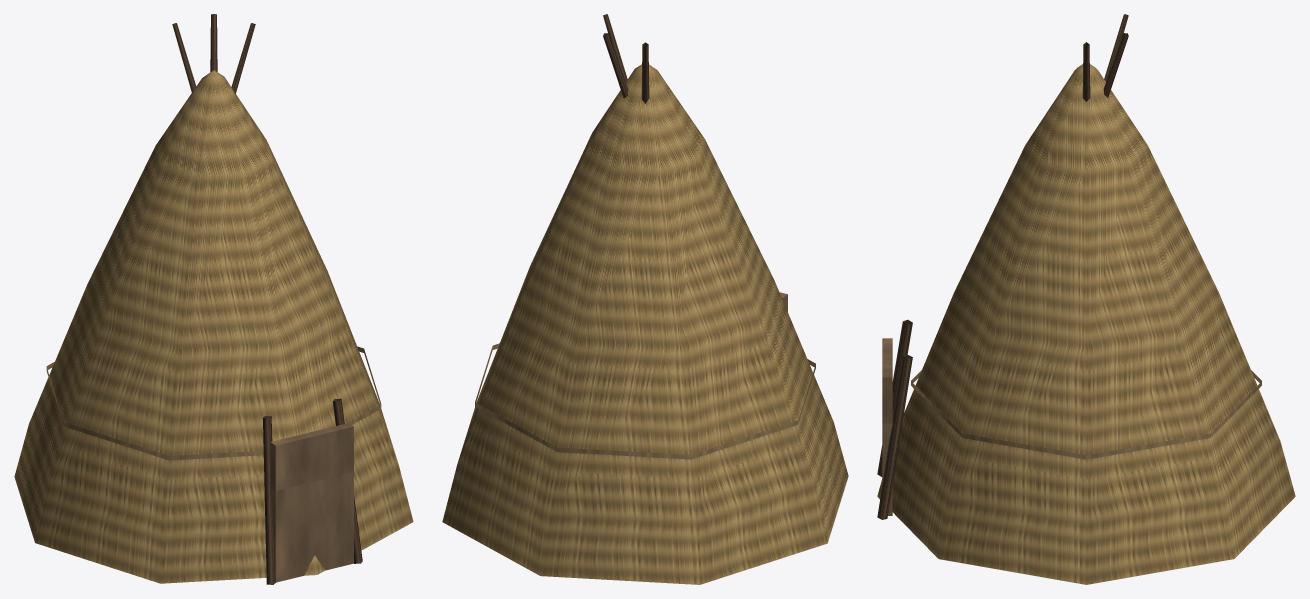
Rendered from Hut_Cone_Thatch_1_LOD1.gltf.
3 renders of one model, left to right at view 1: azimuth 30°, elevation 25°; view 2: azimuth 150°, elevation 25°; view 3: azimuth 270°, elevation 25°, orthographic.
Parts seen in each view (by area): view 1: Hut_Cone_Thatch_1_LOD1; view 2: Hut_Cone_Thatch_1_LOD1; view 3: Hut_Cone_Thatch_1_LOD1.
Part boxes in pixels (left/top/right/bottom): Hut_Cone_Thatch_1_LOD1: left=14, top=14, right=413, bottom=584; Hut_Cone_Thatch_1_LOD1: left=442, top=14, right=848, bottom=584; Hut_Cone_Thatch_1_LOD1: left=877, top=14, right=1295, bottom=584.
Bounding box in the file's own units: 4.1 × 5.12 × 4.1.
4 materials, 4 textured.
